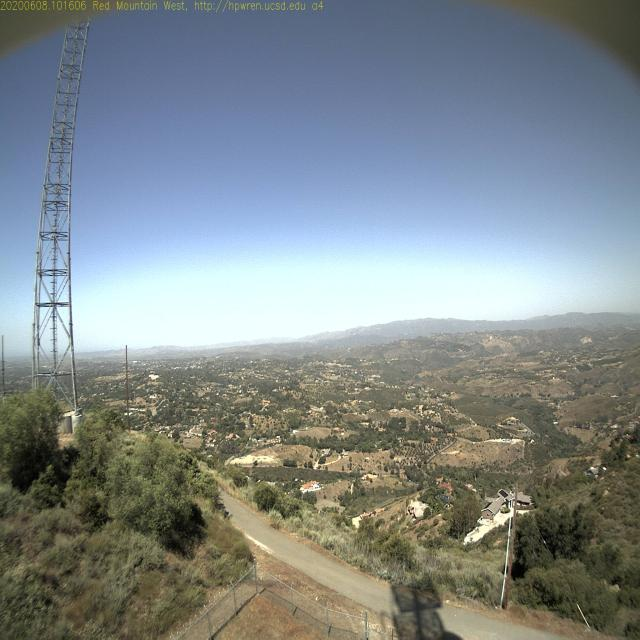smoke: (241, 332, 306, 343)
